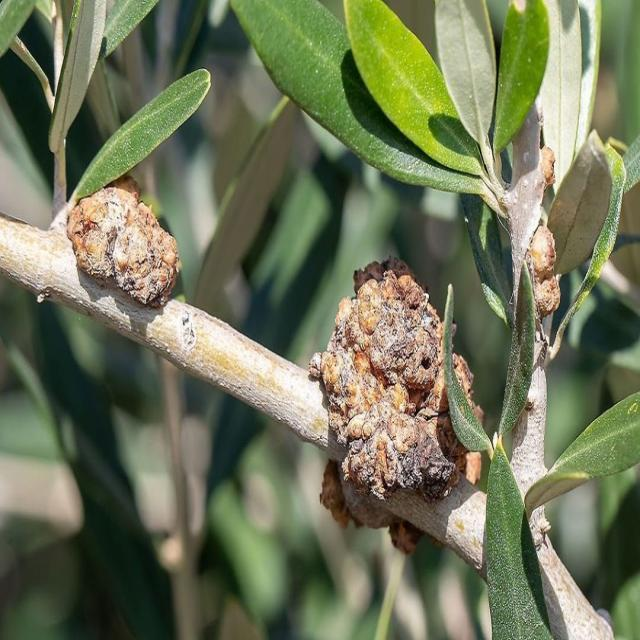Tuberculosis: (316, 257, 480, 553), (66, 175, 180, 314), (526, 224, 562, 318), (540, 144, 562, 208)
